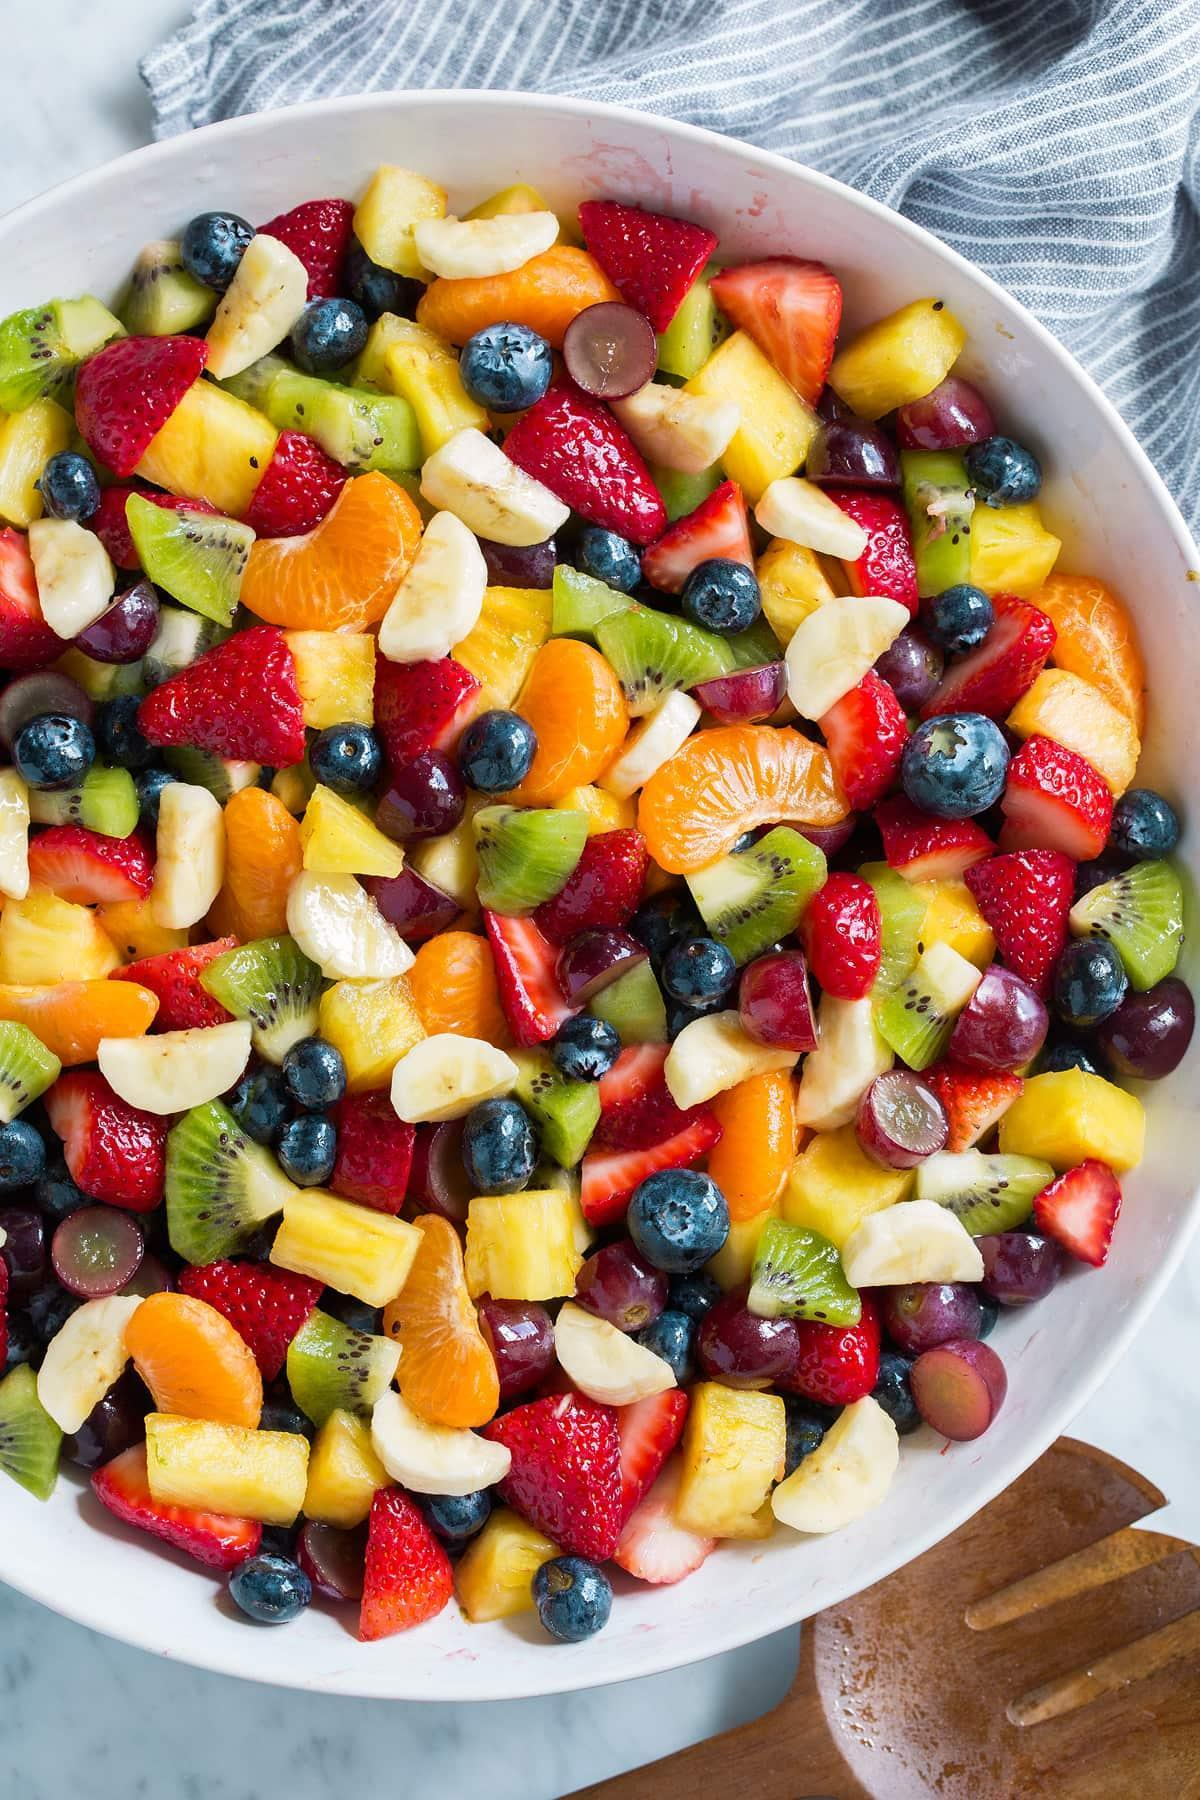apple: (663, 1379, 783, 1543), (550, 1298, 682, 1409), (296, 1406, 390, 1531)
